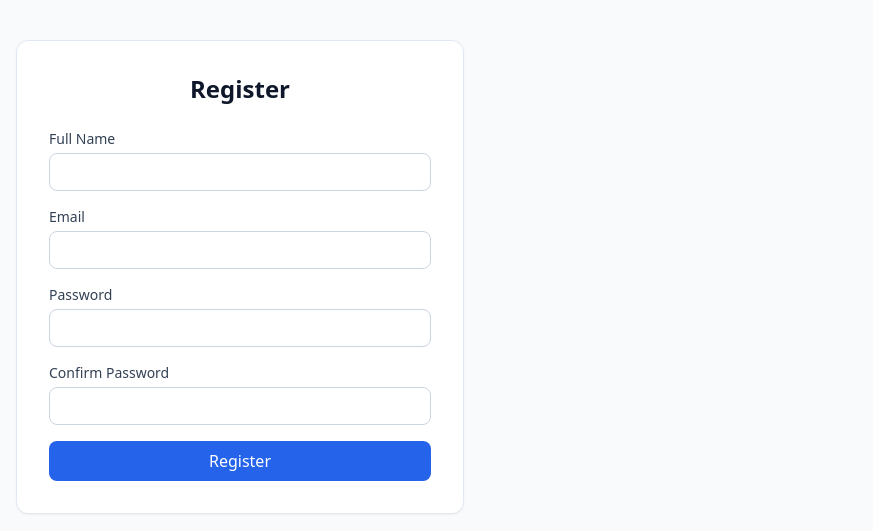
Test: auth pages red alerts › renders success popup when register succeeds
Type "Alice Employee" into the field named "Full Name" at (240, 172), box x1=49 y1=153 x2=431 y2=191
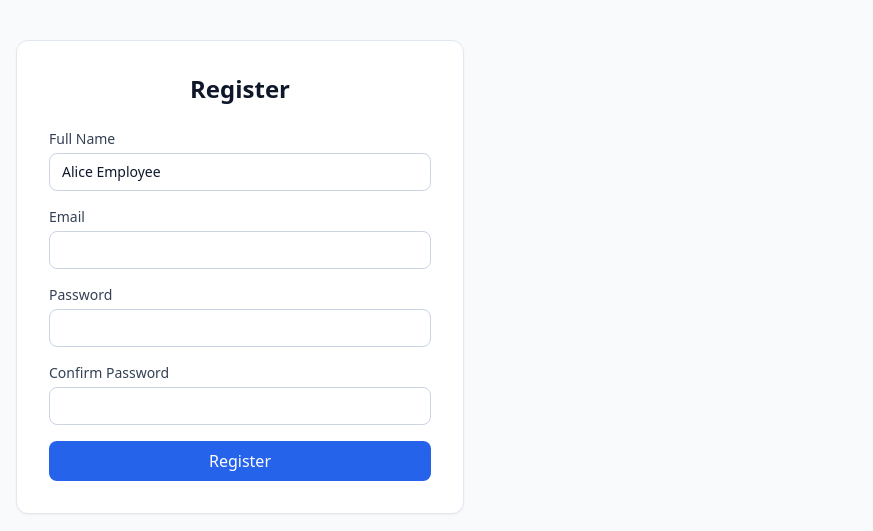
Type "employee@epam.com" into the field named "Email" at (240, 250), box x1=49 y1=231 x2=431 y2=269
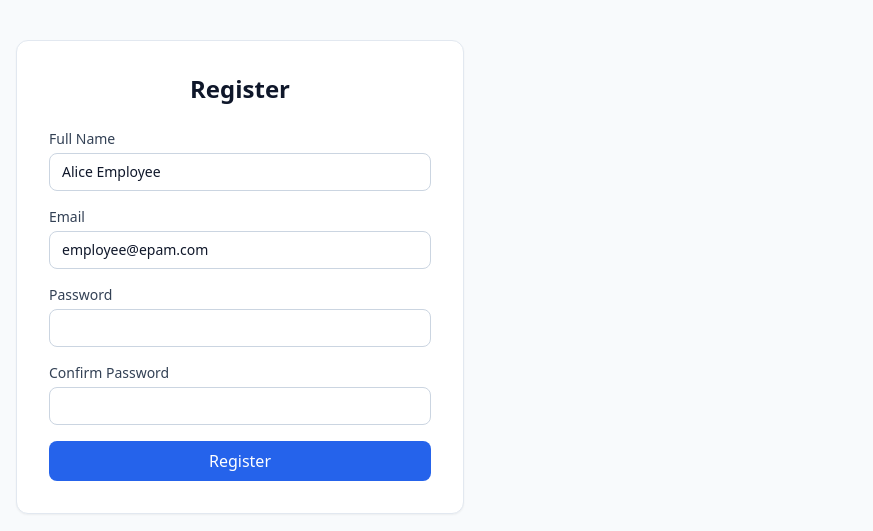
Type "StrongPass123!" into the password field named "Password" at (240, 328), box x1=49 y1=309 x2=431 y2=347
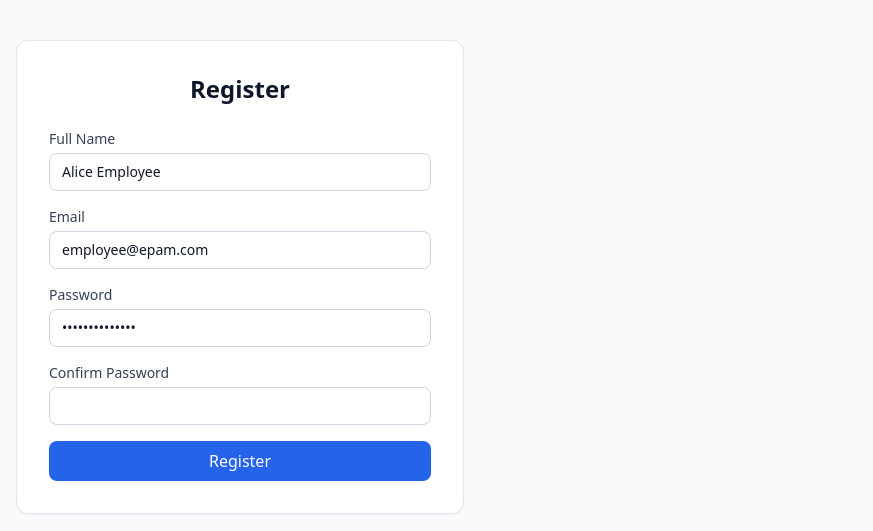
Type "StrongPass123!" into the password field named "Confirm Password" at (240, 406), box x1=49 y1=387 x2=431 y2=425
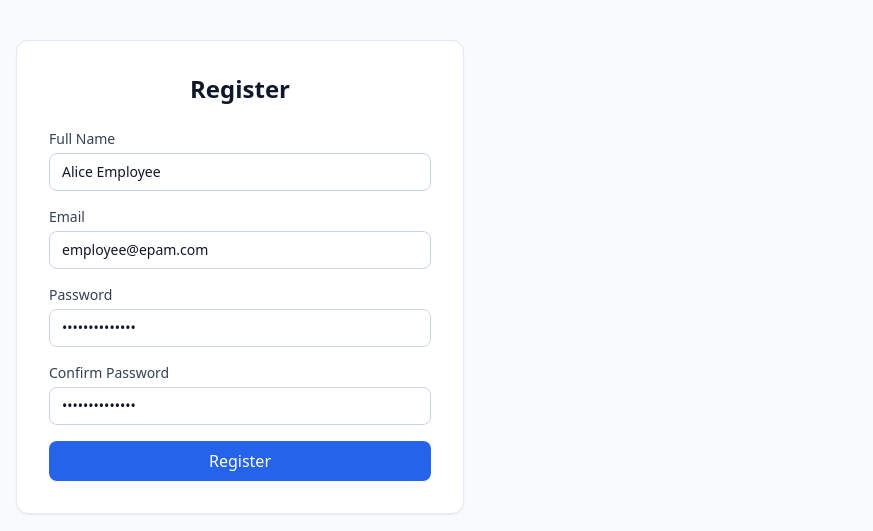
Submit the form, box x1=49 y1=129 x2=431 y2=481
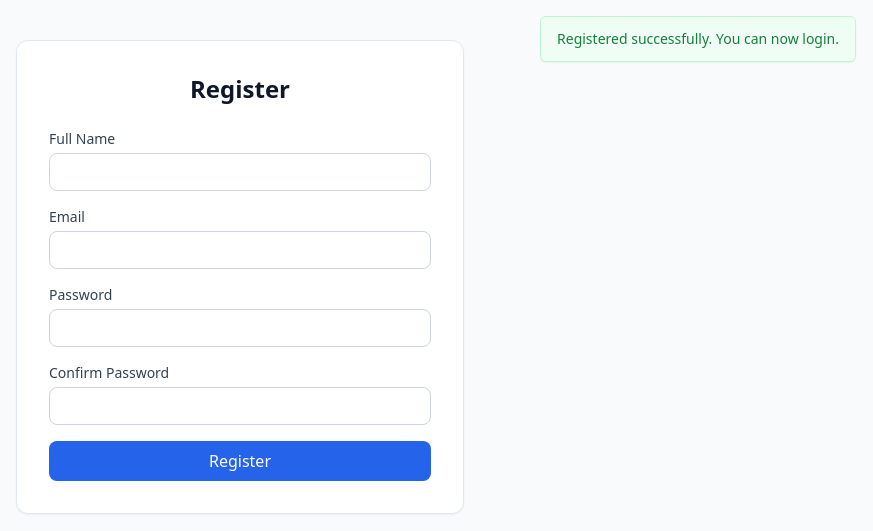
Result: the message "Registered successfully. You can now login." is shown at x1=540 y1=16 x2=856 y2=62
